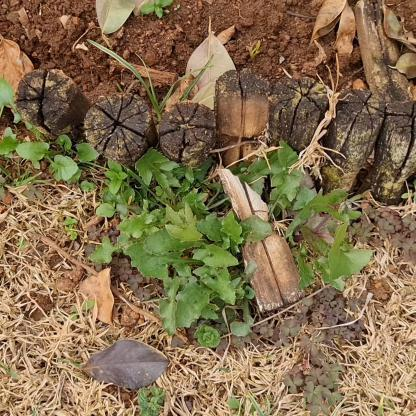Weeds: (2, 75, 375, 348)
